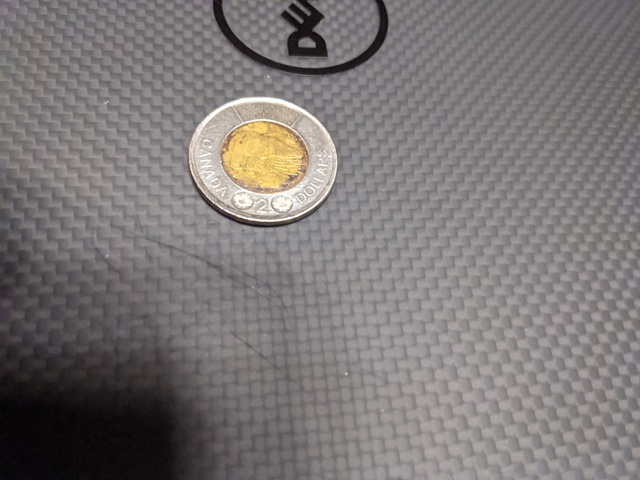twonie: (188, 87, 359, 240)
